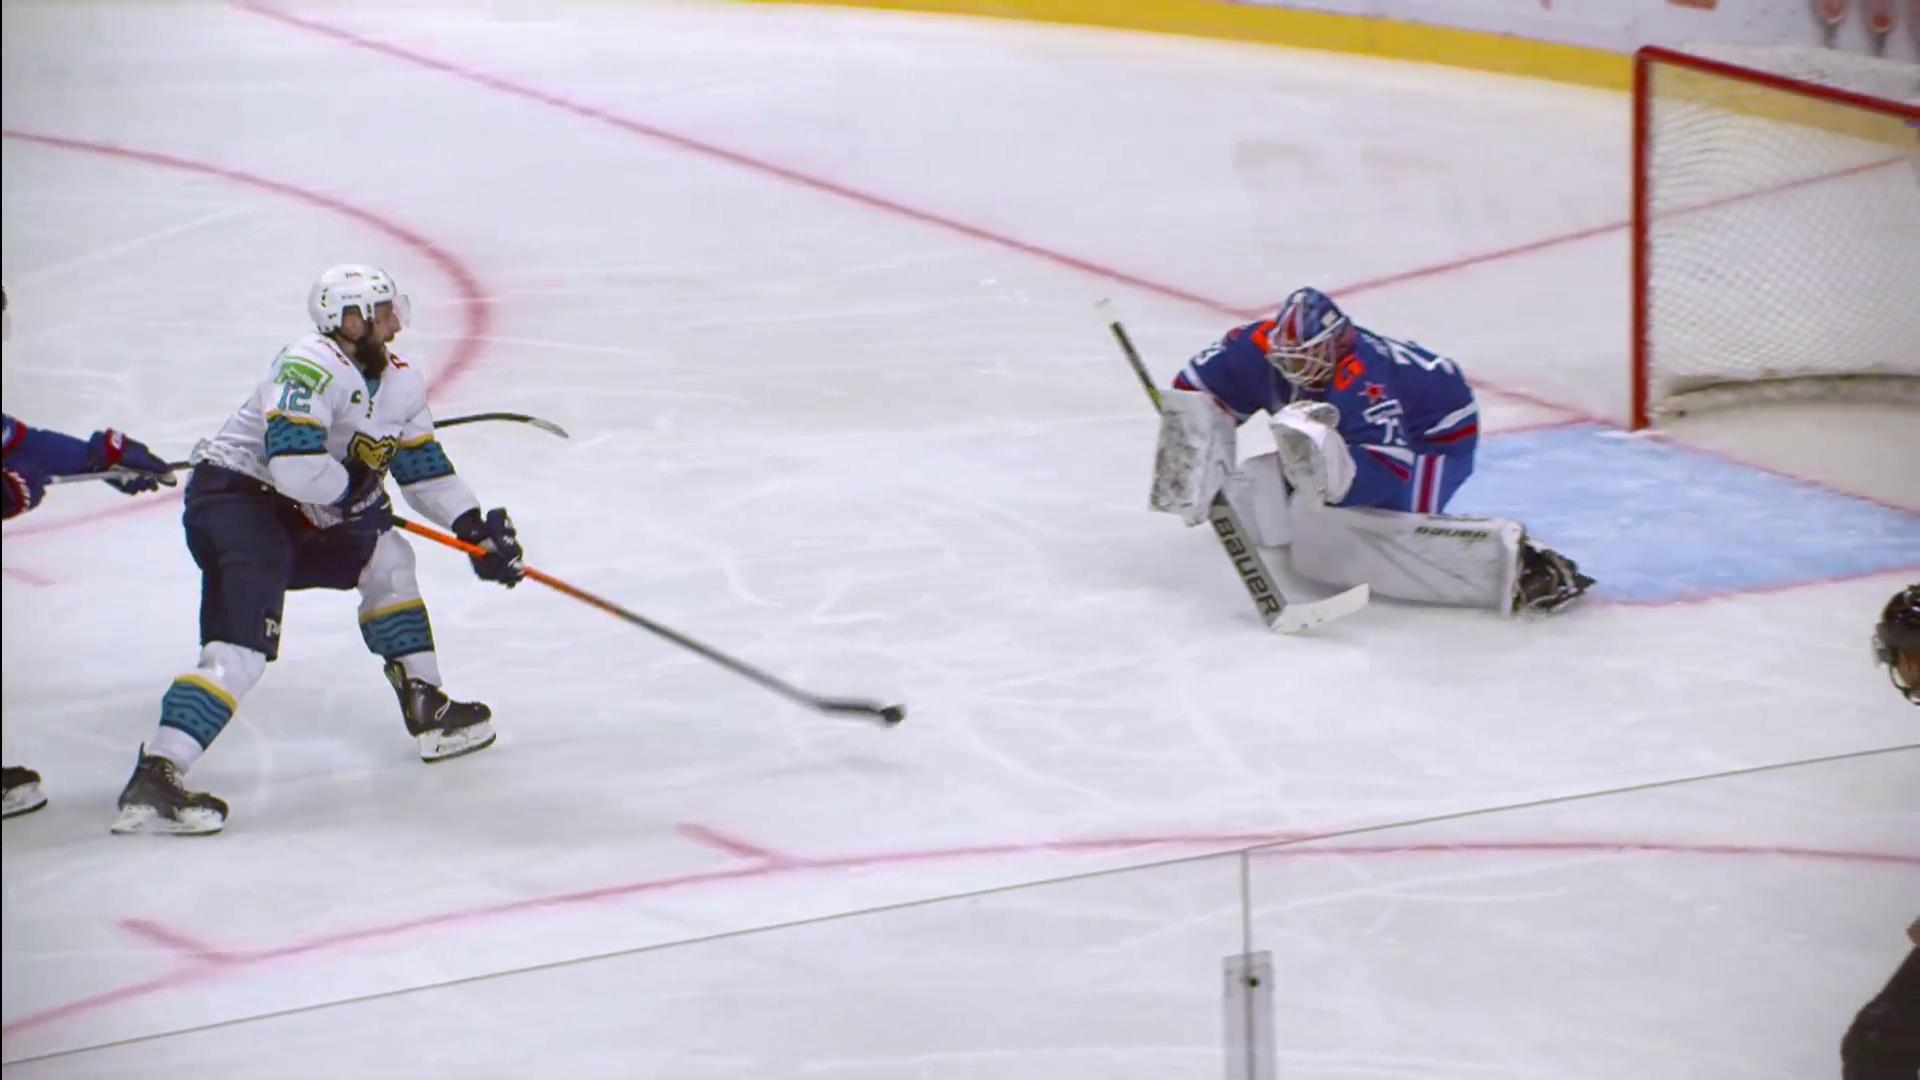ball: (880, 704, 907, 729)
